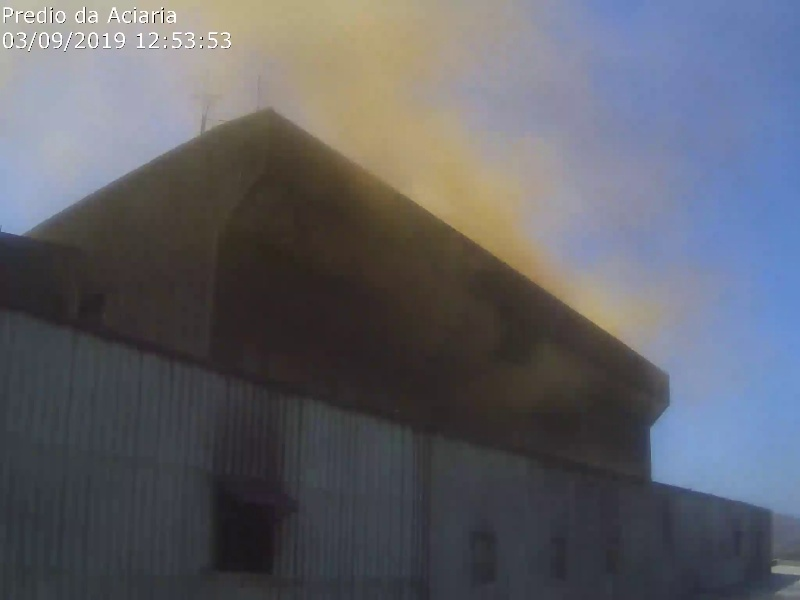pessimo: (55, 2, 729, 420)
